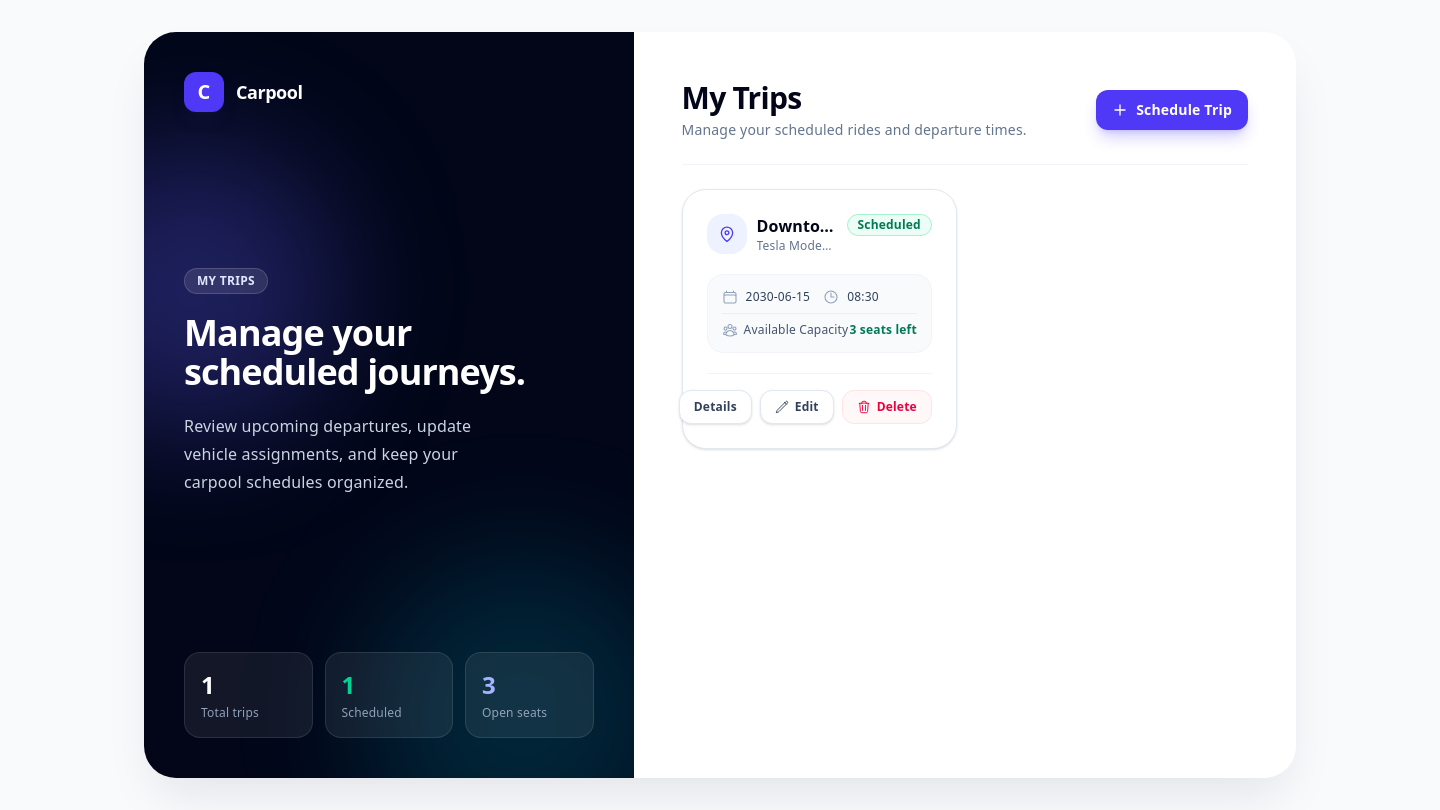
TripsPage › displays error message when delete mutation fails
Click the button with aria-label "delete trip downtown express".
click(887, 407)  # box [842,390,932,424]
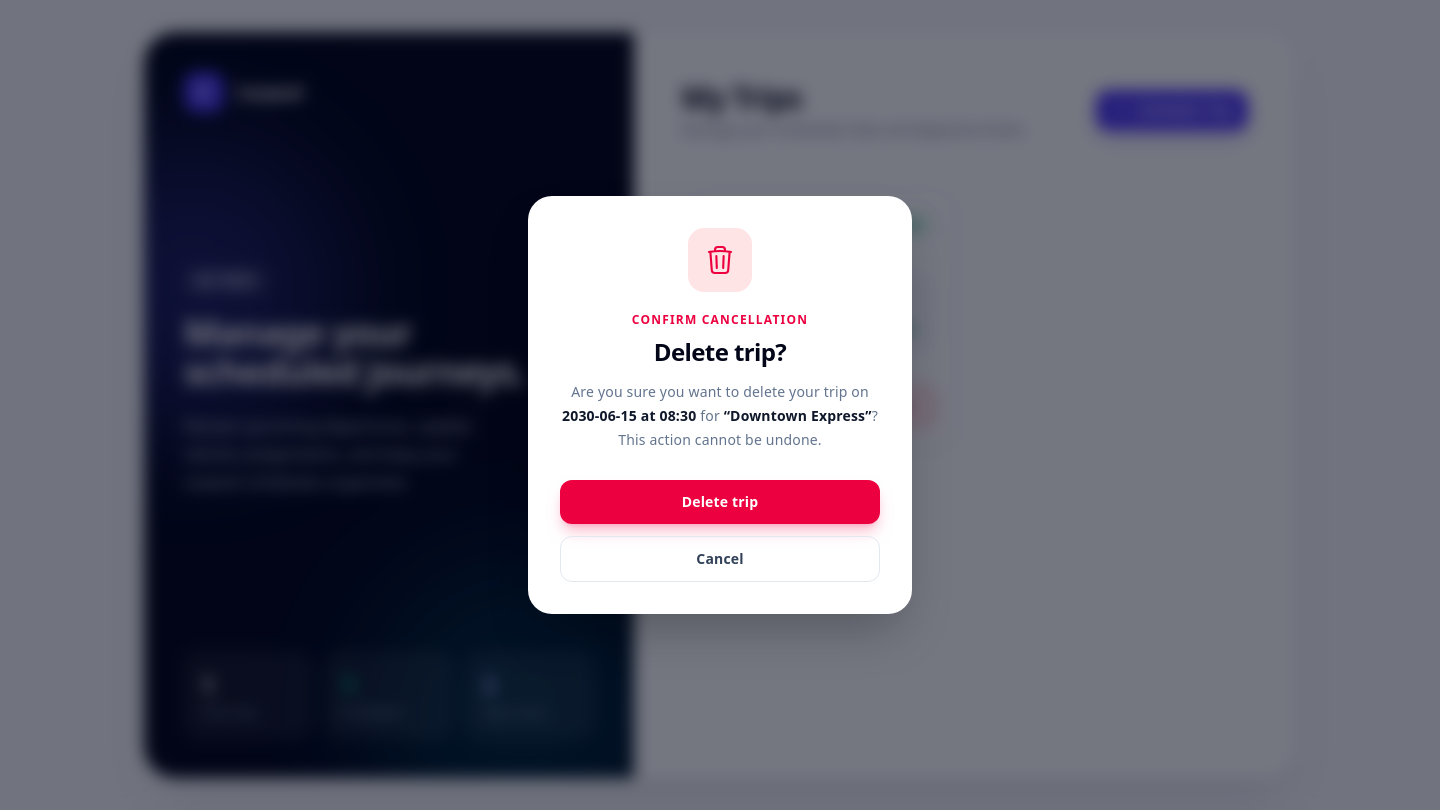
Click the button "Delete trip".
click(720, 502)  # box [560,480,880,524]
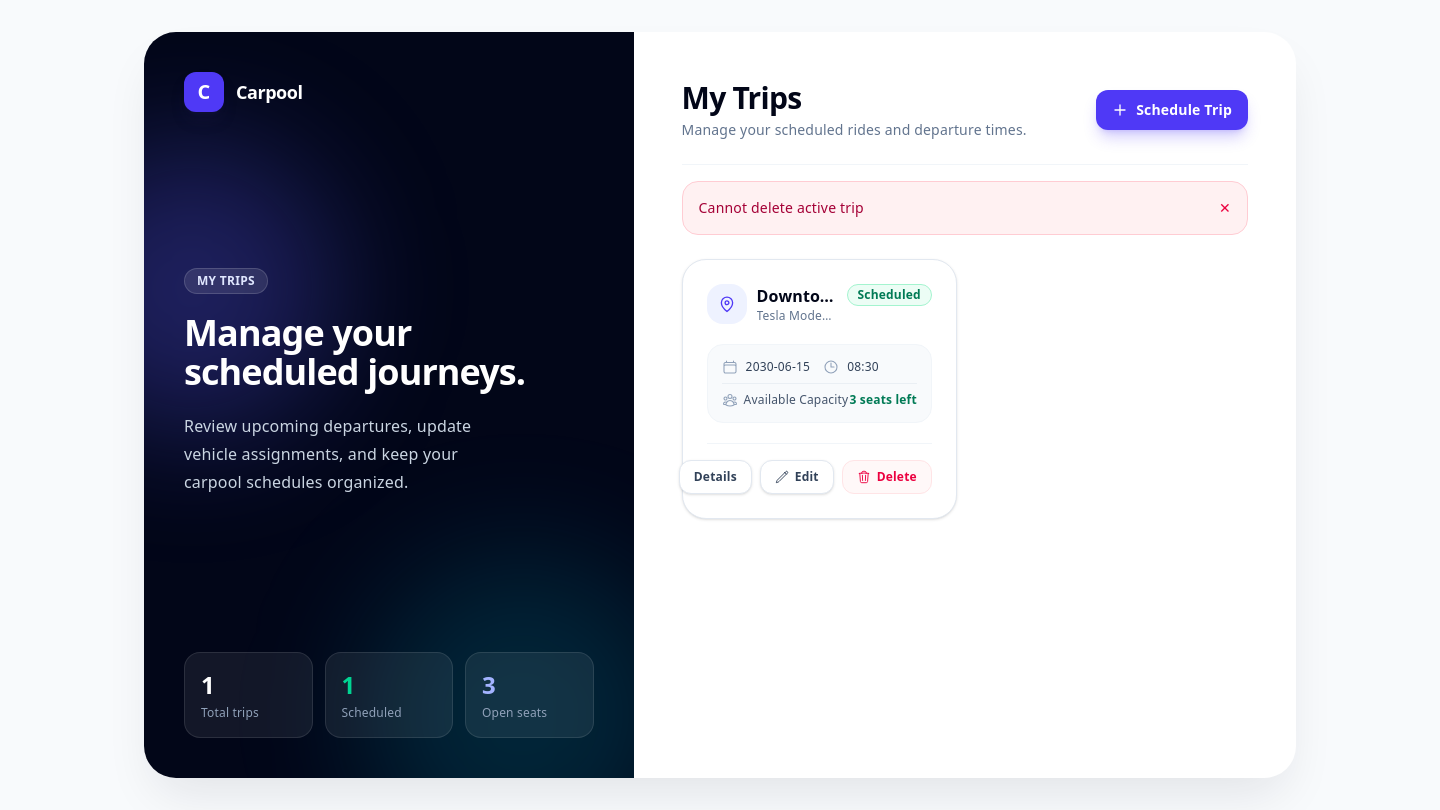
Expected: the text "Cannot delete active trip" is shown, [699,198,864,218]
